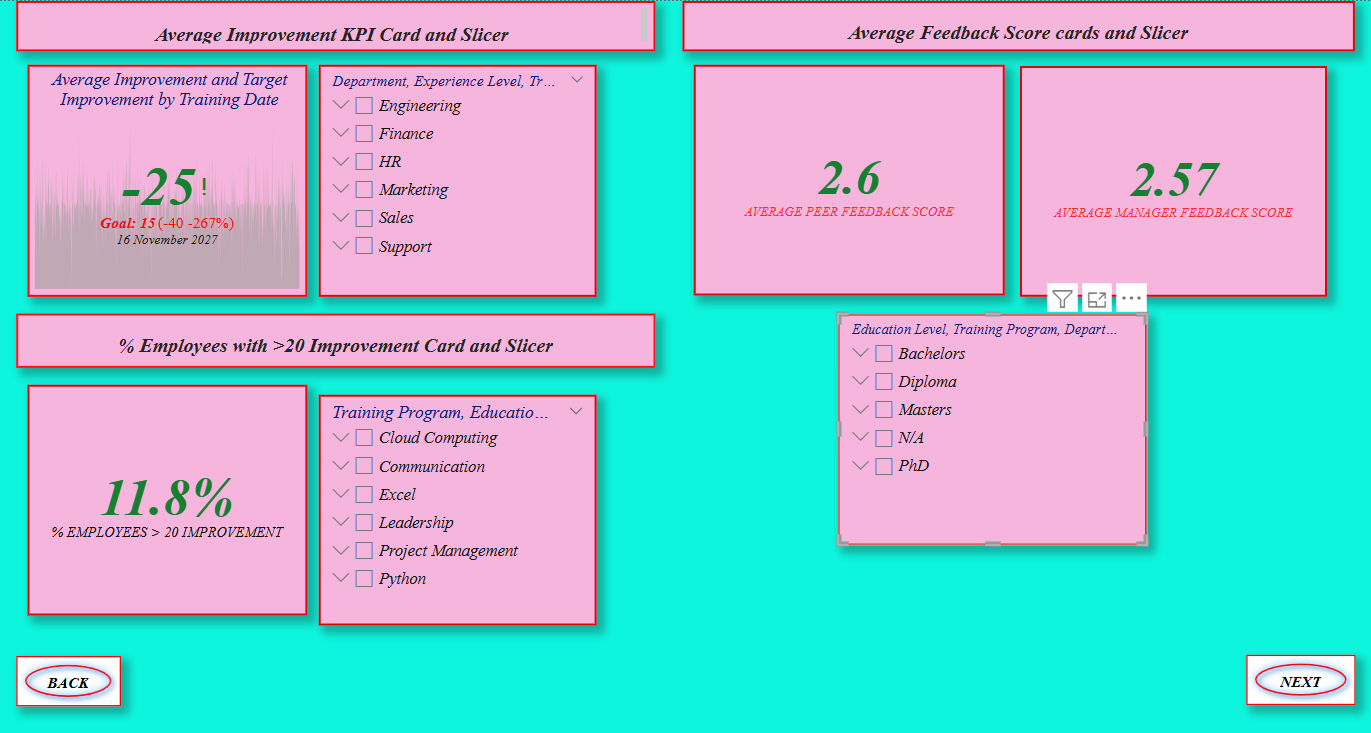

The dashboard page shown, as its layout file describes it:
{"tool":"powerbi","page":{"name":"KPI Cards","canvas":[1660,884],"ordinal":1},"visuals":[{"type":"kpi","title":"Average Improvement and Target Improvement by Training Date","fields":{"Indicator":["Table1.AVERAGE IMPROVEMENT"],"Goal":["Table1.TARGET IMPROVEMENT"],"TrendLine":["Table1.Training Date"]},"box":[38.9,76.3,337.9,280.3],"z":0},{"type":"textbox","box":[24.9,0,770.8,60.7],"z":1000},{"type":"slicer","fields":{"Values":["Table1.Department","Table1.EXPERIENCE LEVEL","Table1.Training Program"]},"box":[390.9,76.3,334.8,280.3],"z":2000},{"type":"textbox","box":[24.9,376.8,770.8,65.4],"z":3000},{"type":"card","fields":{"Values":["Table1.% EMPLOYEES > 20 IMPROVEMENT"]},"box":[38.9,462.5,337.9,278.7],"z":4000},{"type":"slicer","fields":{"Values":["Table1.Training Program","Table1.Education Level","Table1.Department"]},"box":[390.9,475,334.8,278.7],"z":5000},{"type":"textbox","box":[830,0,811.3,60.7],"z":6000},{"type":"card","fields":{"Values":["Table1.AVERAGE PEER FEEDBACK SCORE"]},"box":[842.5,76.3,375.3,278.7],"z":7000},{"type":"card","fields":{"Values":["Table1.AVERAGE MANAGER FEEDBACK SCORE"]},"box":[1236.4,77.9,370.6,278.7],"z":8000},{"type":"slicer","fields":{"Values":["Table1.Education Level","Table1.Training Program","Table1.Department"]},"box":[1016.9,376.8,373.7,280.3],"z":9000},{"type":"actionButton","box":[1508.9,788,132.4,60.7],"z":9001},{"type":"actionButton","box":[24.9,789.5,126.1,60.7],"z":9002}]}

Visuals, with their boxes in screenshot pixels (x1, y1, x2, y2), scaled from the page's 1660x884 canvas onto the 1371x733 screenshot:
"Average Improvement and Target Improvement by Training Date" kpi: rect(32, 63, 311, 296)
textbox: rect(21, 0, 657, 50)
slicer - Table1.Department x Table1.EXPERIENCE LEVEL: rect(323, 63, 599, 296)
textbox: rect(21, 312, 657, 367)
card - Table1.% EMPLOYEES > 20 IMPROVEMENT: rect(32, 383, 311, 615)
slicer - Table1.Training Program x Table1.Education Level: rect(323, 394, 599, 625)
textbox: rect(686, 0, 1356, 50)
card - Table1.AVERAGE PEER FEEDBACK SCORE: rect(696, 63, 1006, 294)
card - Table1.AVERAGE MANAGER FEEDBACK SCORE: rect(1021, 65, 1327, 296)
slicer - Table1.Education Level x Table1.Training Program: rect(840, 312, 1149, 545)
actionButton: rect(1246, 653, 1356, 704)
actionButton: rect(21, 655, 125, 705)
